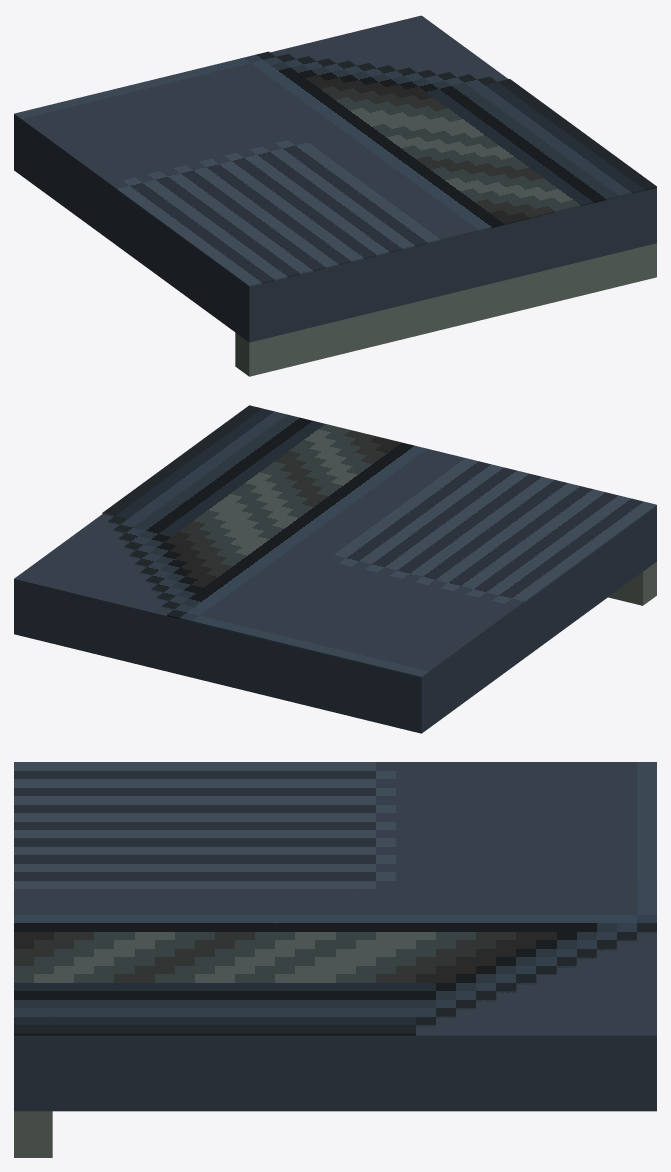
File: CMU3DInteriorVehicleBoxVanFrontRoof1.glb
The picture shows the model from 3 angles, top to bottom: view 1: azimuth 30°, elevation 25°; view 2: azimuth 150°, elevation 25°; view 3: azimuth 270°, elevation 25°; orthographic projection. The views are drawn at different scales.
Visible parts, largest first — view 1: overhead armor source finish, overhead armor, inner roof rib; view 2: overhead armor source finish, overhead armor, inner roof rib; view 3: overhead armor source finish, overhead armor, inner roof rib.
Part boxes in pixels (x1=…): overhead armor source finish: x1=14, y1=51, x2=656, y2=286; overhead armor: x1=14, y1=15, x2=656, y2=342; inner roof rib: x1=235, y1=243, x2=656, y2=376; overhead armor source finish: x1=102, y1=405, x2=656, y2=677; overhead armor: x1=14, y1=506, x2=656, y2=733; inner roof rib: x1=608, y1=561, x2=656, y2=605; overhead armor source finish: x1=14, y1=762, x2=656, y2=1035; overhead armor: x1=14, y1=932, x2=656, y2=1111; inner roof rib: x1=14, y1=1111, x2=52, y2=1157.
Bounding box in the file's own units: 1 × 0.213 × 1.
Materials: 3 (1 with a texture image).
